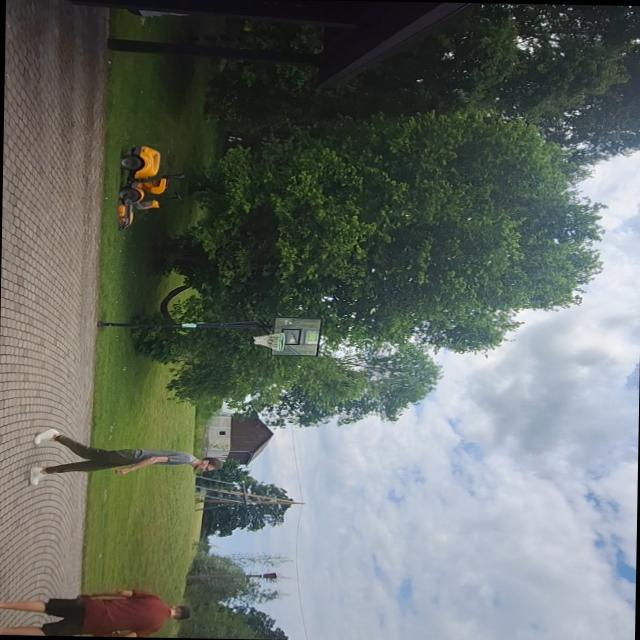ball: (254, 330, 288, 354)
player: (30, 426, 223, 488), (0, 586, 193, 637)
